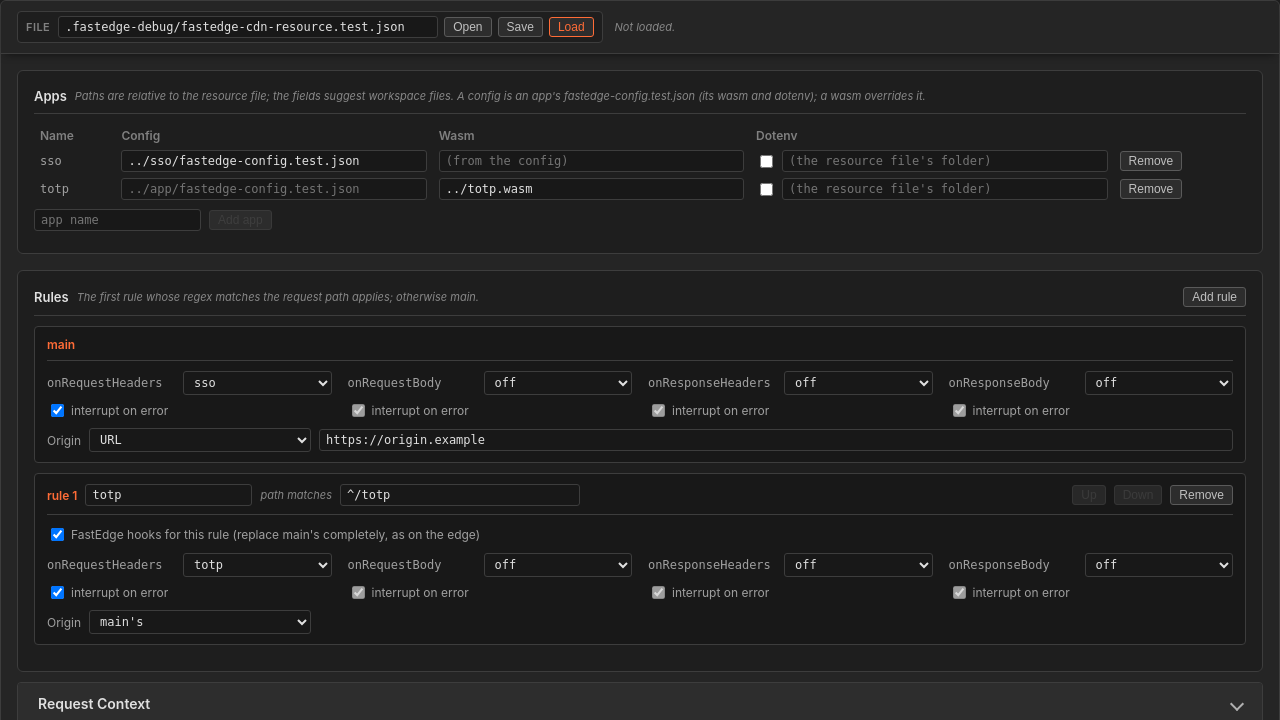
it: ResourceView › opening another file takes that file's request
Expected: the dropdown named "sso config" is shown, [121, 150, 427, 172]
Replace the text in the dropdown named "Resource file" with "other.json" at point(248, 27), box [58, 16, 438, 38]
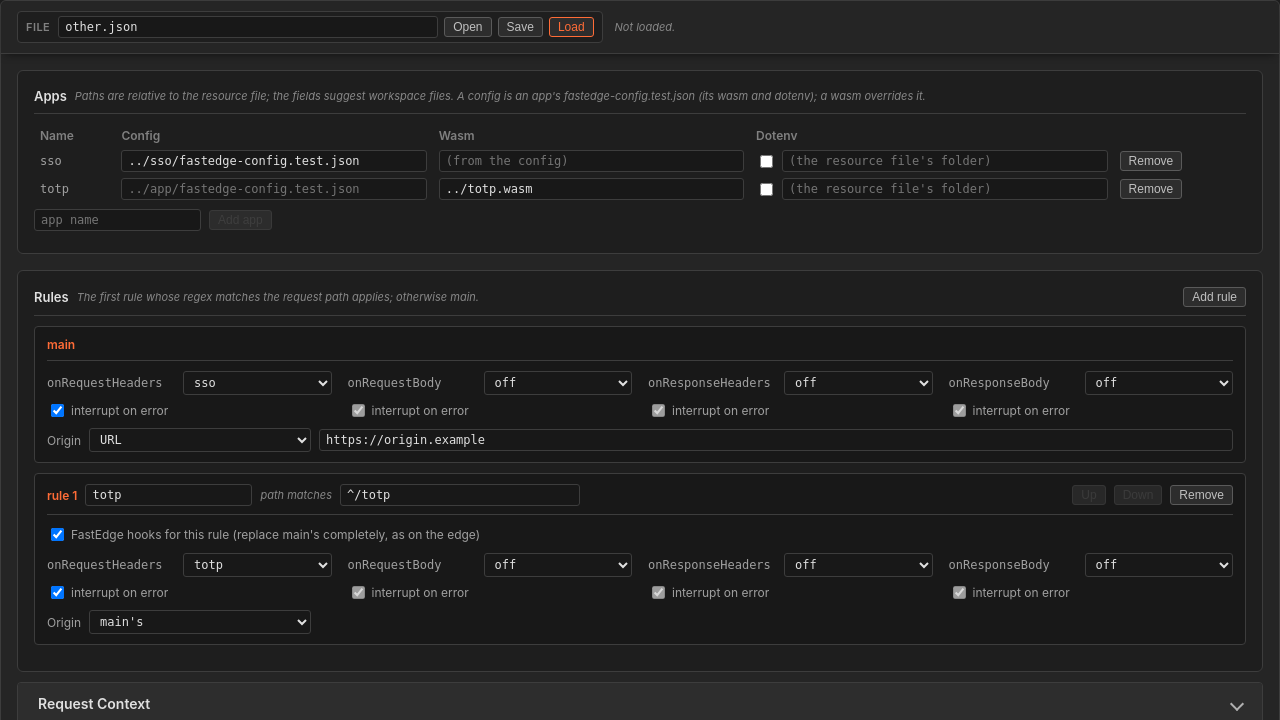
Click the button "Open" at point(468, 27), box [444, 17, 492, 37]
(page scrolled)
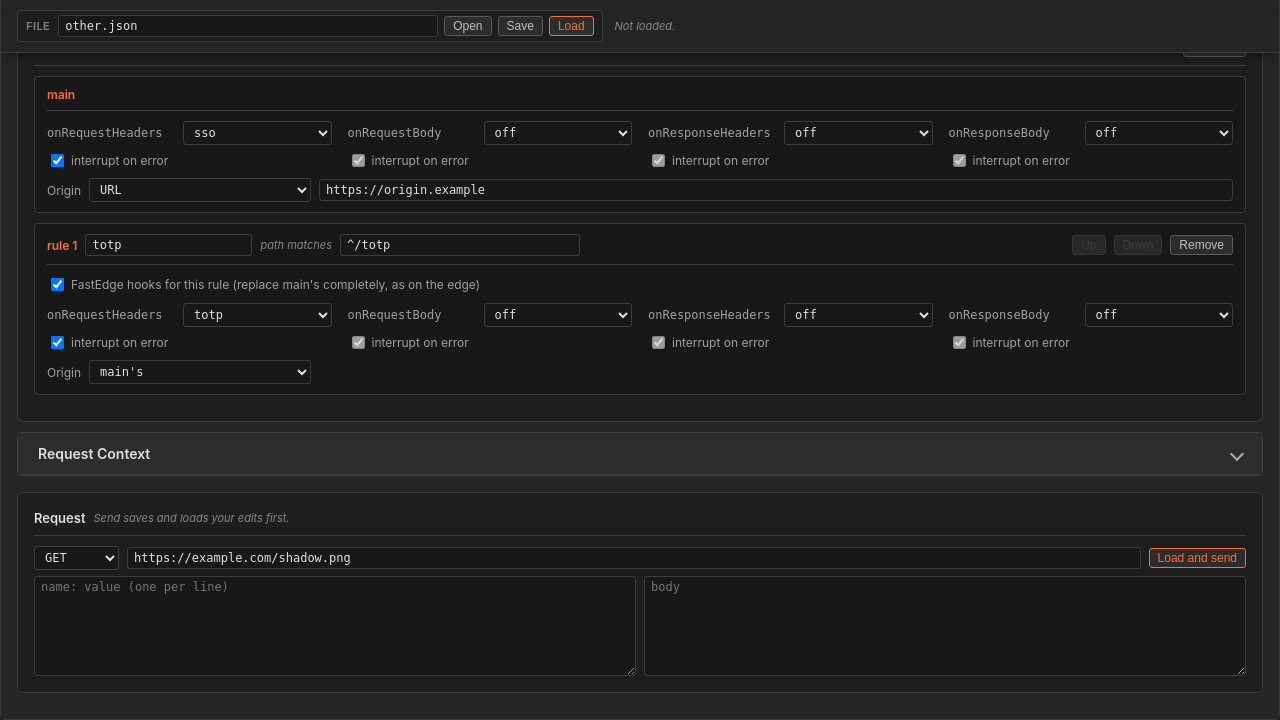
Expected: the field showing "https://example.com/shadow.png" is shown, [127, 547, 1141, 569]
